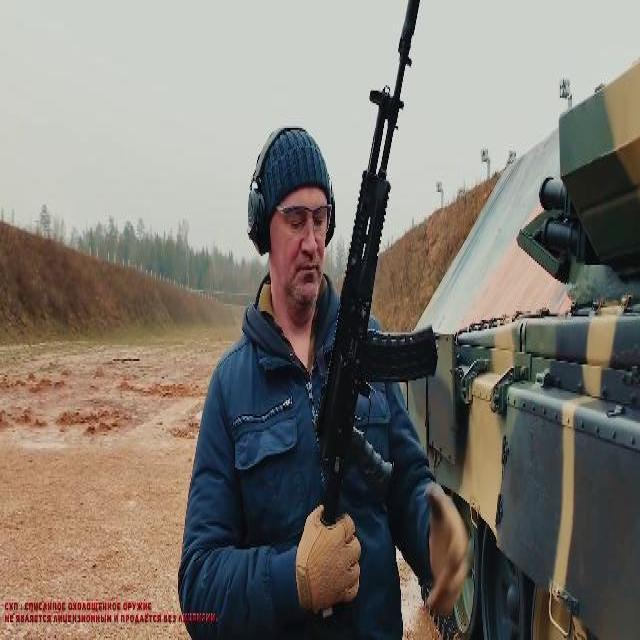pistol: (312, 0, 438, 609)
